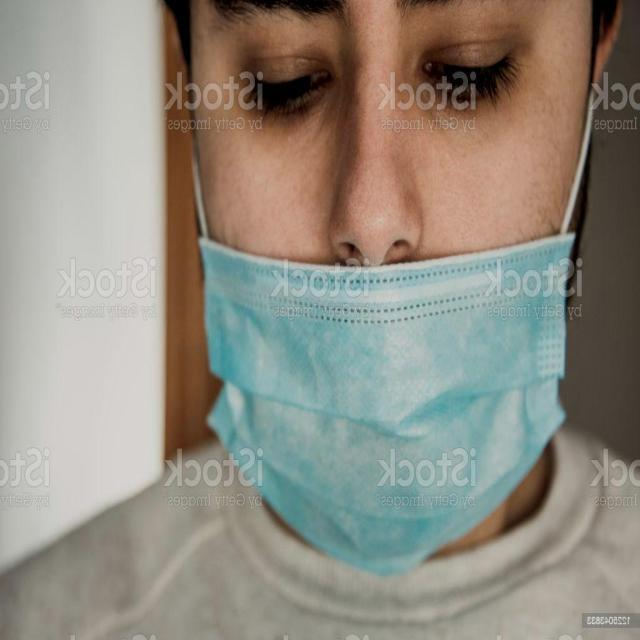hairnet: (182, 0, 608, 595)
